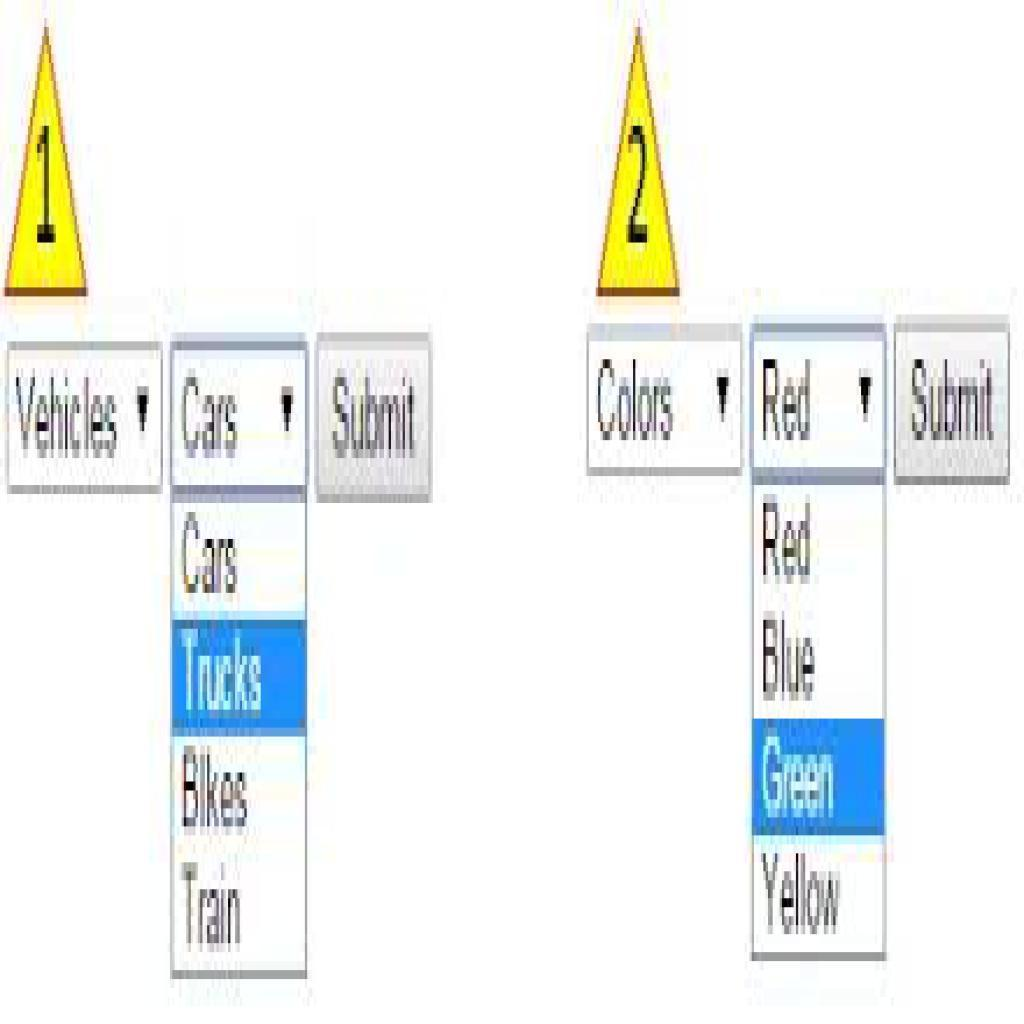button: (316, 330, 432, 503), (893, 314, 1011, 484), (171, 620, 308, 735), (750, 719, 885, 835)
dropdown: (585, 323, 745, 474), (8, 340, 162, 492), (168, 333, 309, 494), (752, 323, 887, 475)
label: (760, 843, 843, 937), (179, 744, 252, 834), (179, 857, 243, 952), (177, 509, 241, 601), (759, 610, 816, 702), (761, 496, 815, 583)
